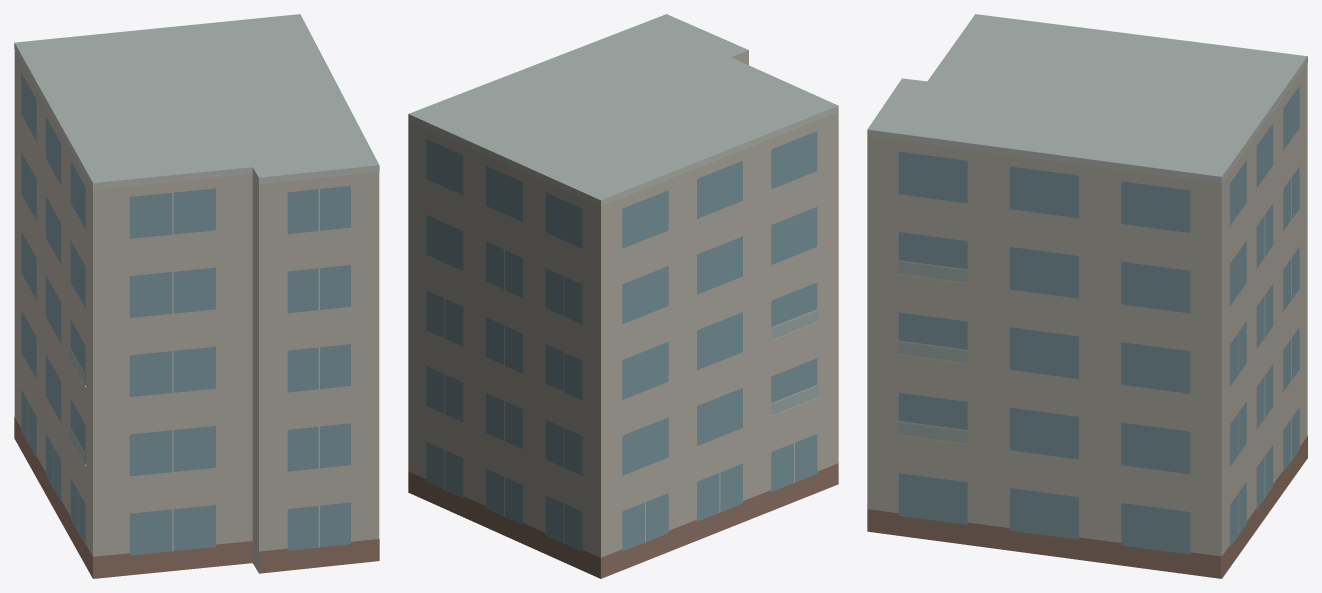
File: survey-upis-32880212.glb
3 renders of one model, left to right at view 1: azimuth 30°, elevation 25°; view 2: azimuth 150°, elevation 25°; view 3: azimuth 270°, elevation 25°, orthographic. The views are drawn at different scales.
Parts seen in each view (by area): view 1: survey-upis-32880212.tmp; view 2: survey-upis-32880212.tmp; view 3: survey-upis-32880212.tmp.
Part boxes in pixels (x1,y1,x2,y2): survey-upis-32880212.tmp: (14, 14, 379, 578); survey-upis-32880212.tmp: (408, 14, 838, 578); survey-upis-32880212.tmp: (867, 14, 1307, 578).
Size of the model in its own units: 12.7 by 14.6 by 14.51.
